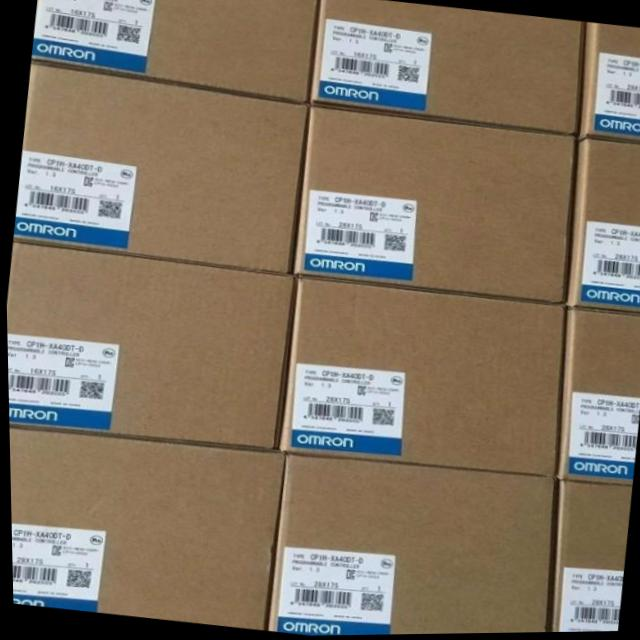box: (12, 65, 305, 276), (5, 240, 295, 450), (277, 279, 566, 479), (7, 424, 284, 630), (291, 107, 575, 306), (265, 453, 551, 636), (308, 0, 585, 137), (30, 0, 320, 106), (554, 308, 640, 486), (564, 143, 640, 316), (546, 480, 628, 634), (575, 26, 640, 144)
